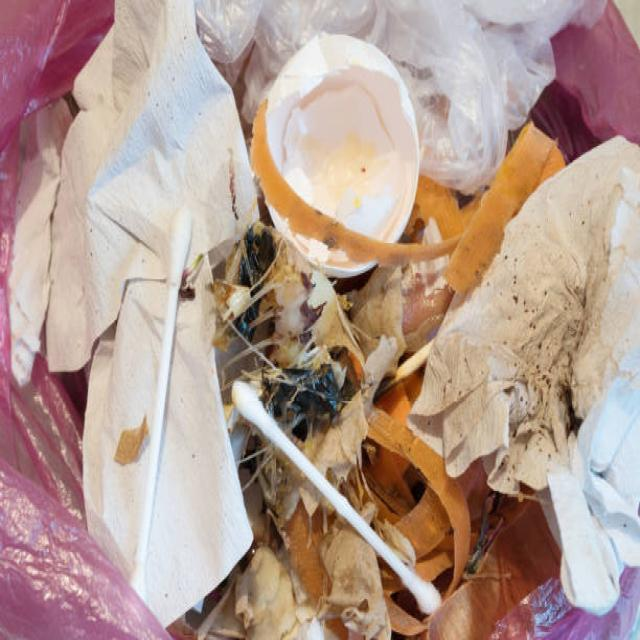trash: (5, 8, 638, 634)
